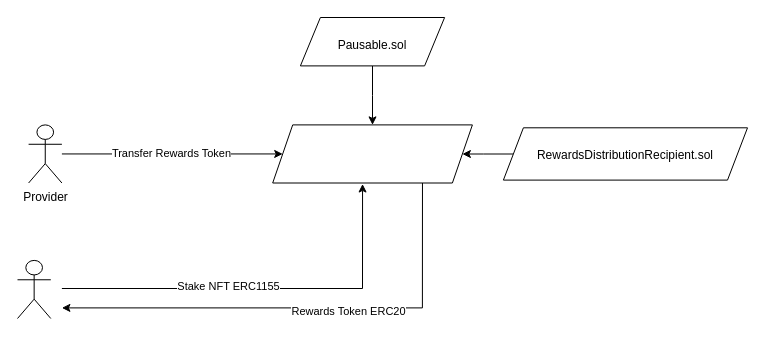
Some shapes in this 766 by 357 pixel diagram are drawn without their labels. Here are the shapes that lost their labels. From the top down, the centre of each, then its label:
At (x=372, y=153): "YieldFarmingWithNFT.sol".
At (x=33, y=288): "Staker".
